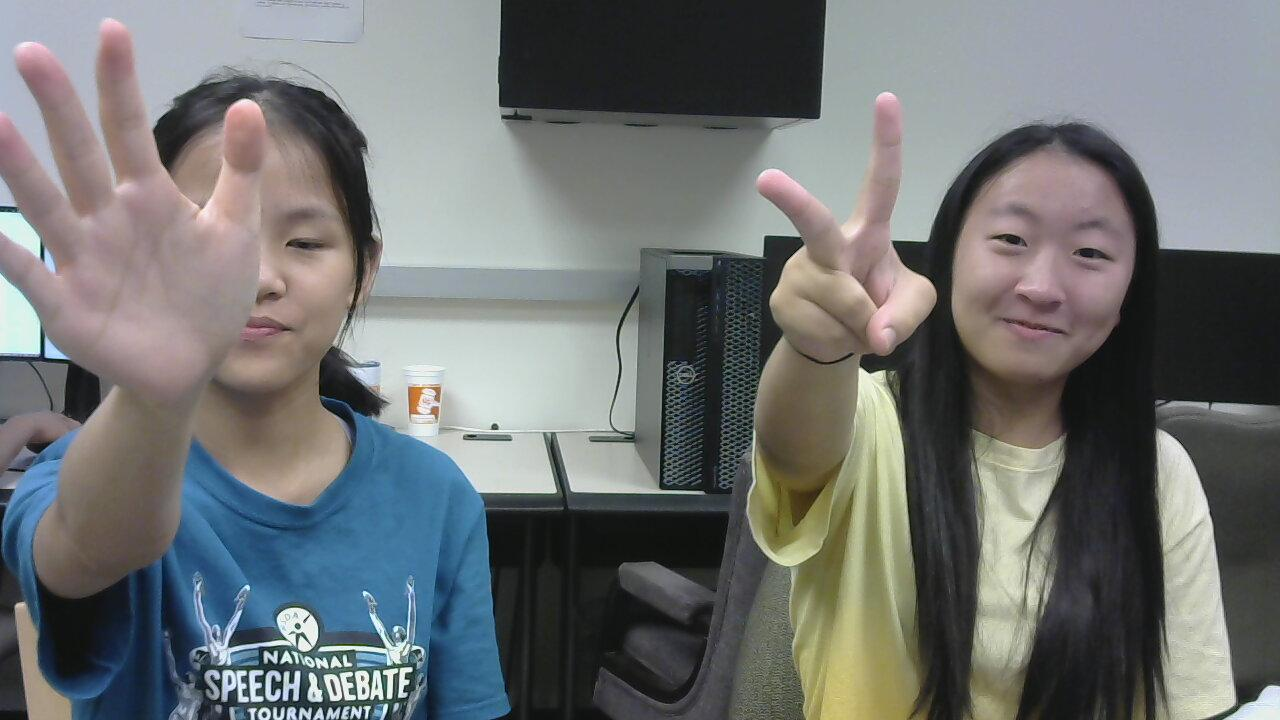hands: (2, 12, 275, 391)
peace: (744, 82, 945, 386)
